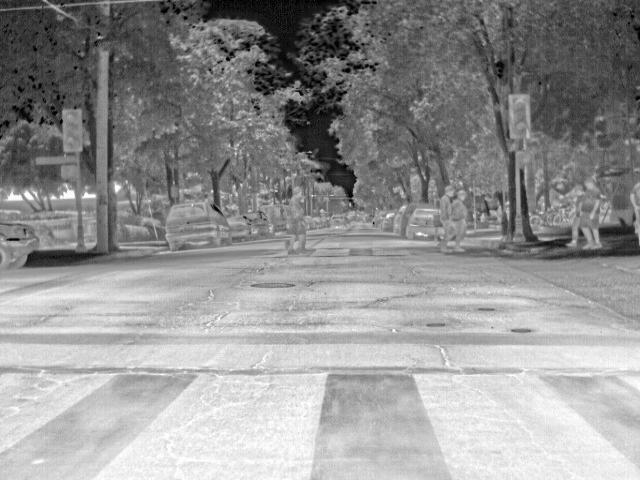car: (163, 204, 231, 254), (2, 221, 44, 272), (215, 206, 251, 242), (391, 202, 425, 236), (404, 208, 440, 240), (330, 212, 351, 231), (381, 211, 395, 231)
person: (278, 185, 310, 252), (575, 179, 604, 246), (433, 184, 454, 253), (452, 188, 470, 252), (260, 195, 277, 241), (628, 179, 640, 235)
